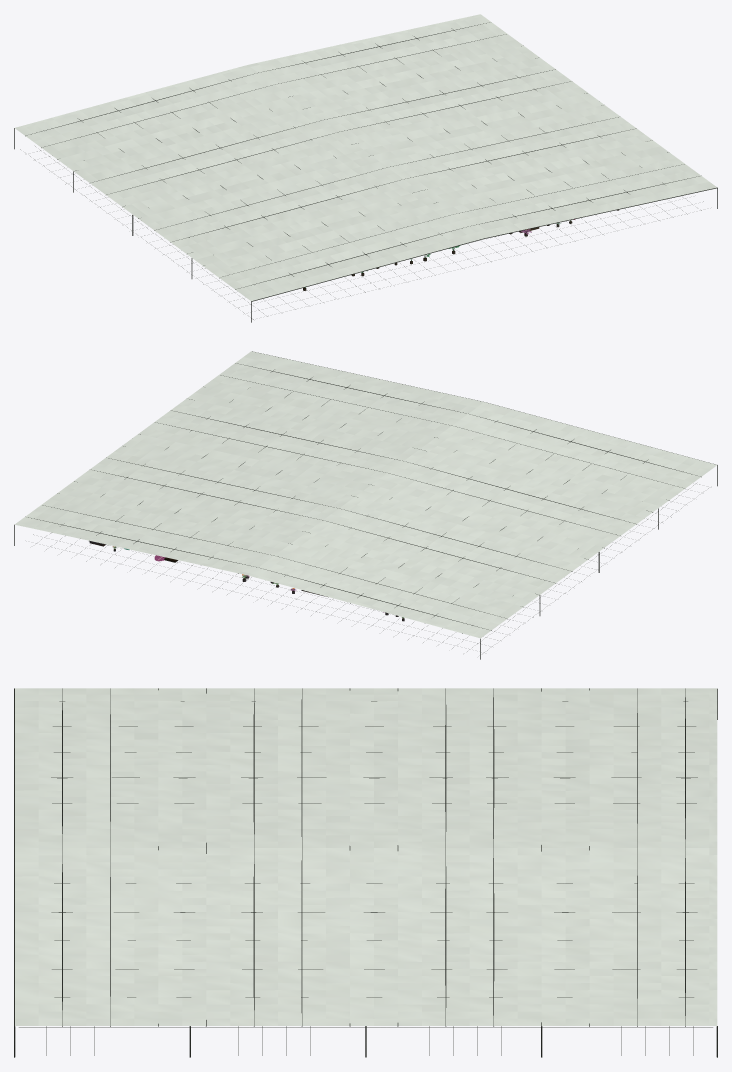
Rendered from v03-environment.glb.
3 renders of one model, top to bottom at view 1: azimuth 30°, elevation 25°; view 2: azimuth 150°, elevation 25°; view 3: azimuth 270°, elevation 25°, orthographic. The views are drawn at different scales.
Visible parts, largest first — view 1: Roof_vinyl.010, Environment_iron.025; view 2: Roof_vinyl.010, Environment_iron.025; view 3: Roof_vinyl.010, Environment_iron.025.
Part boxes in pixels (box(x1,y1,x2,y2)): Roof_vinyl.010: box(15, 14, 716, 301); Environment_iron.025: box(14, 22, 717, 322); Roof_vinyl.010: box(15, 351, 716, 638); Environment_iron.025: box(14, 351, 717, 659); Roof_vinyl.010: box(15, 688, 717, 1025); Environment_iron.025: box(14, 688, 717, 1057).
Size of the model in its own units: 100 by 5.62 by 88.15.
Materials: 12 (5 with a texture image).
